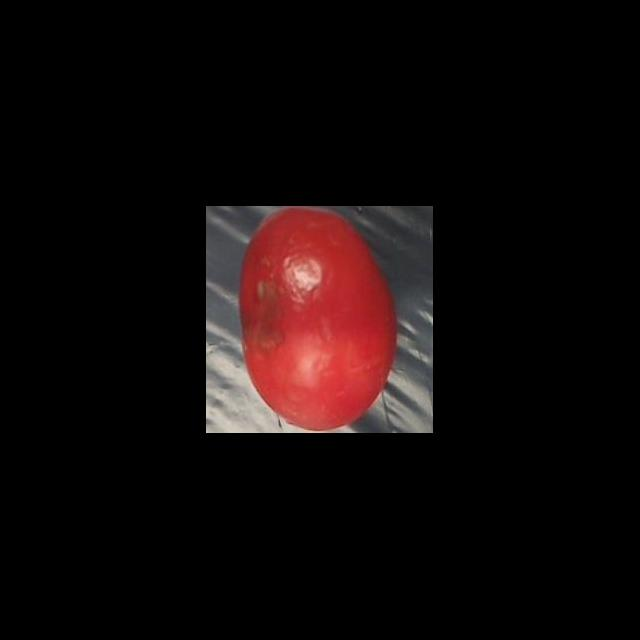tomato: (236, 206, 404, 434)
